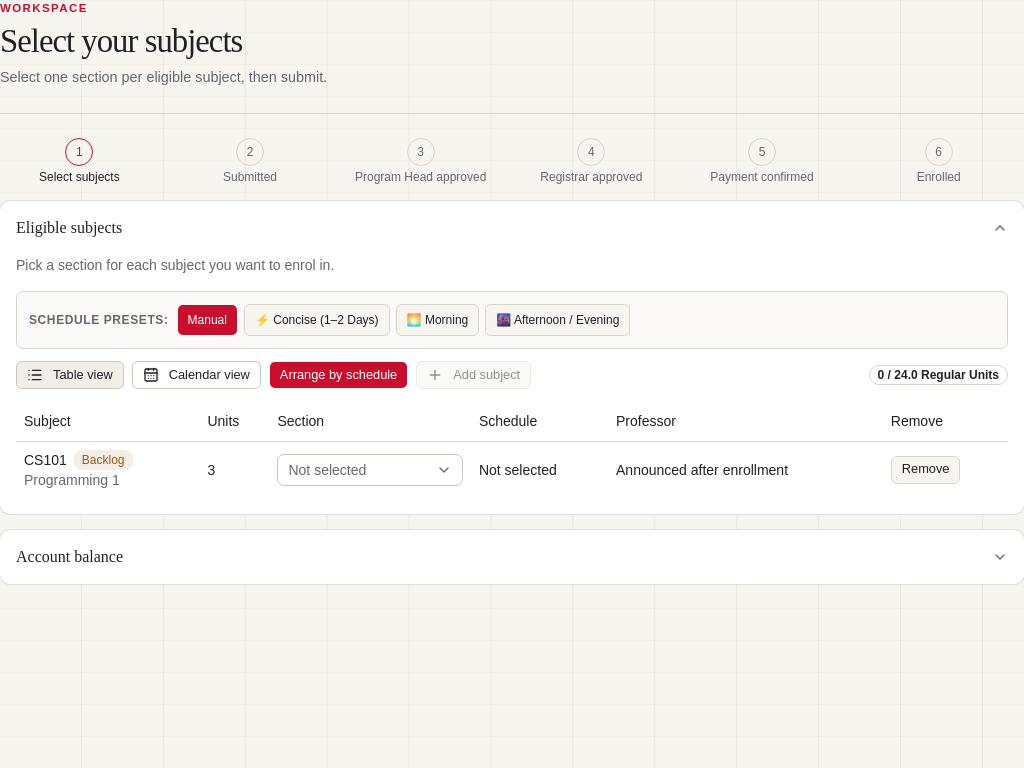
Scenario: EnrollmentWorkspace › selects a section, reviews, confirms, and submits the enrollment
The width and height of the screenshot is (1024, 768).
Click the dropdown named "CS101 section" at (370, 470), box [278,454,463,486]
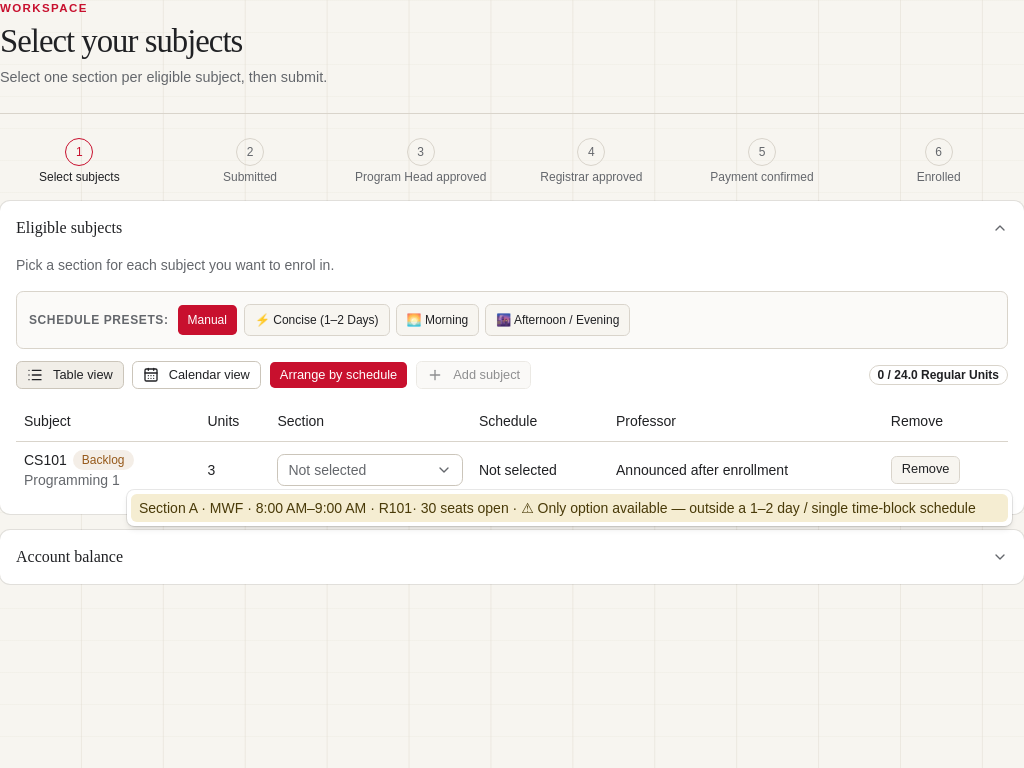
Click the option "Section A" at (569, 508), box [131,494,1008,522]
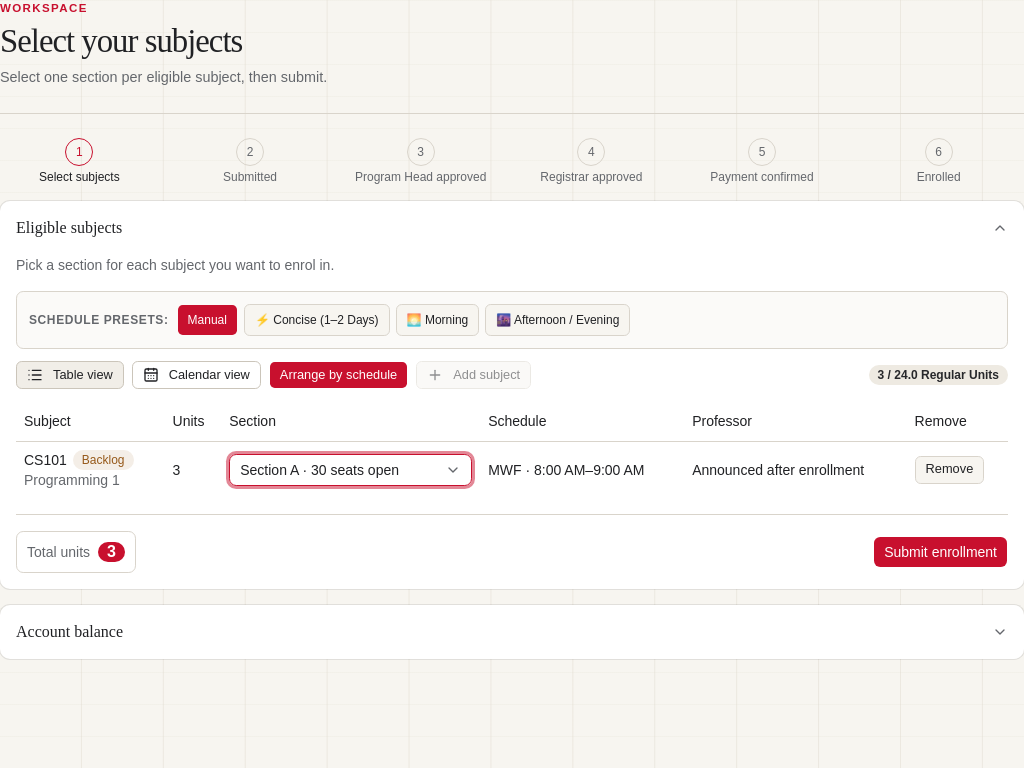
Now the text "Total units" is shown, box [27,542,90,562]
Click the button "Submit enrollment" at (941, 552), box [873,536,1008,568]
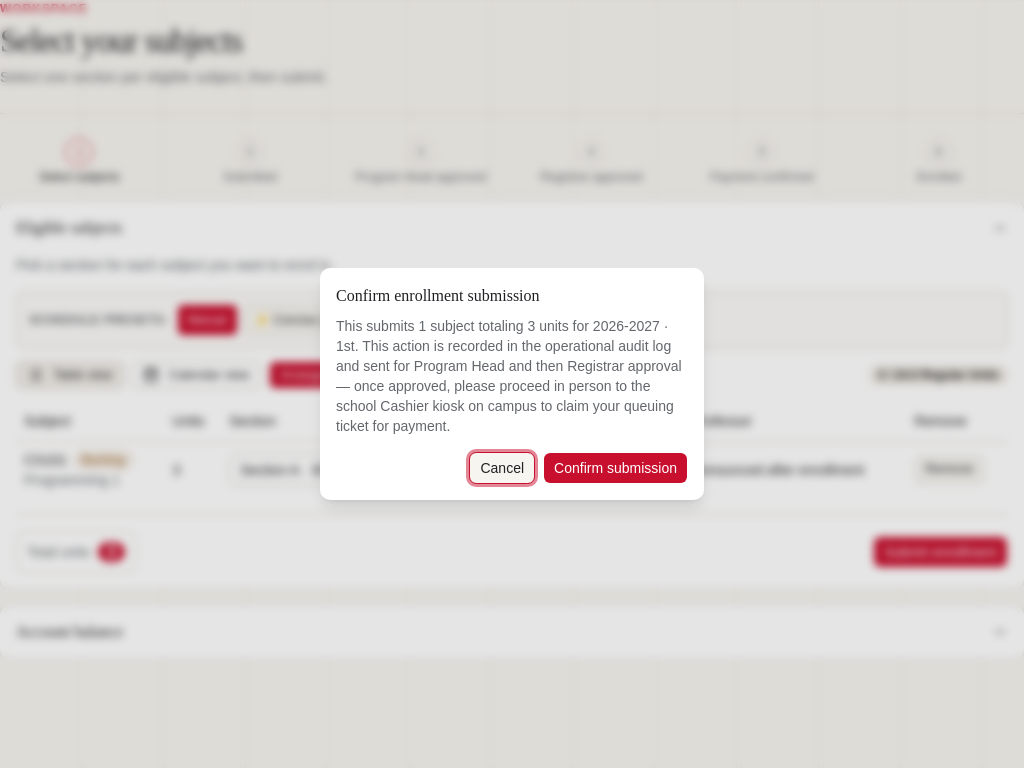
Now the dialog is shown, box [320,268,704,500]
Click the button "Confirm submission" at (616, 468), box [543,452,688,484]
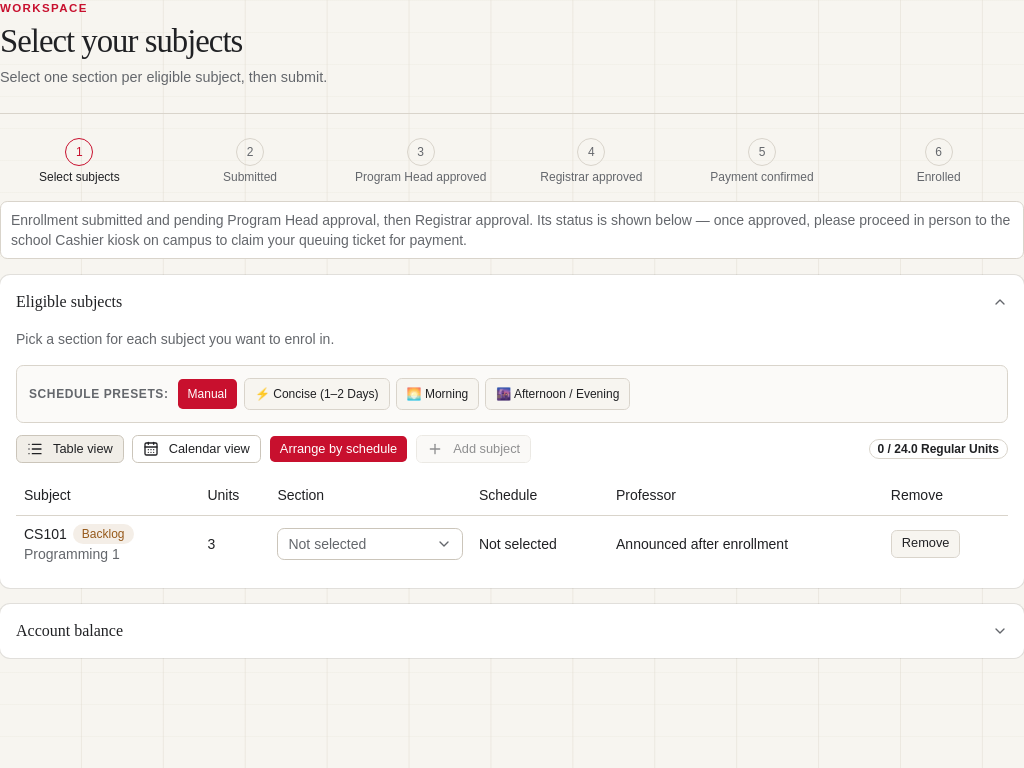
Now the text "pending Program Head approval" is shown, box [11,212,1010,248]
